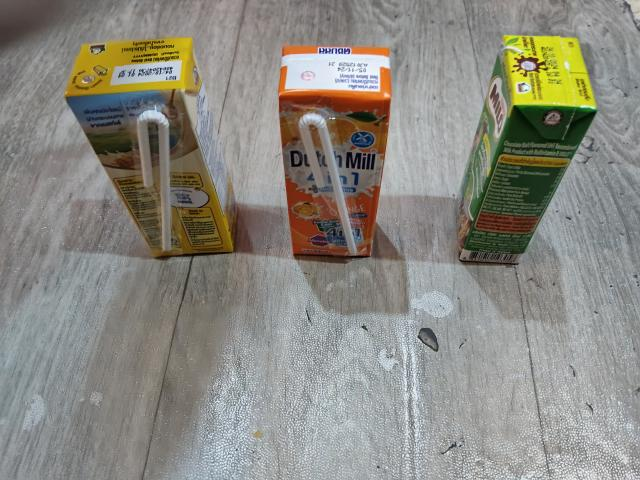drink_box: (58, 33, 244, 262), (447, 29, 605, 274), (278, 42, 398, 261)
